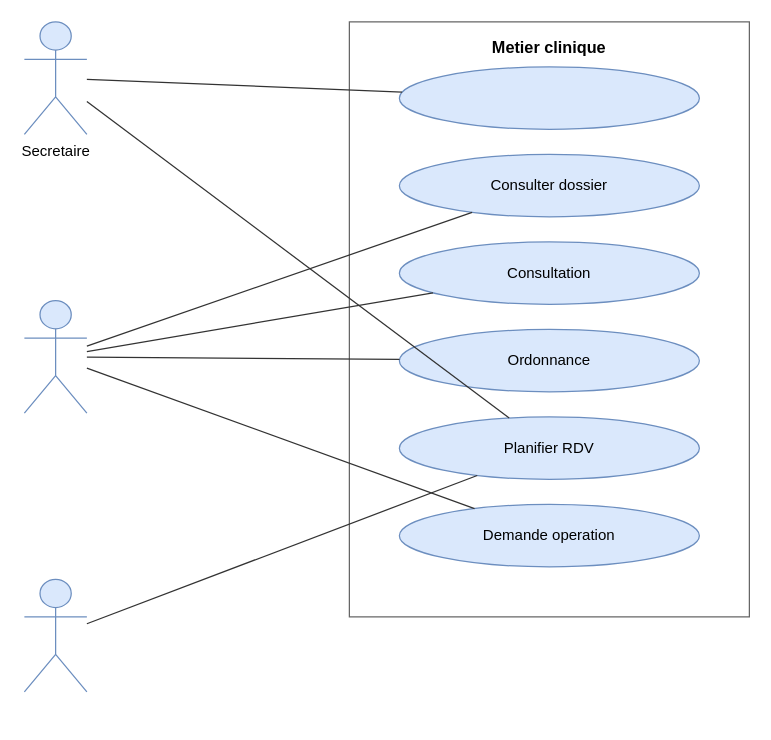
Some shapes in this 771 by 740 pixel diagram are drawn without their labels. The shapes that lost their labels are listed below. From the top down, each one's centre as x and y in pixels, then its label:
At (548,97): "Enregistrer patient".
At (55,356): "Medecin".
At (55,635): "Patient".
